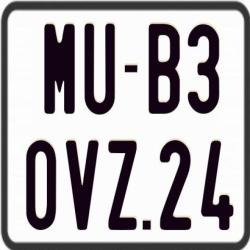0: (27, 140, 58, 232)
2: (159, 140, 194, 229)
3: (186, 24, 218, 116)
4: (200, 140, 233, 230)
B: (147, 22, 179, 116)
M: (43, 23, 74, 113)
U: (82, 22, 114, 113)
V: (66, 139, 101, 229)
Z: (108, 140, 136, 230)
